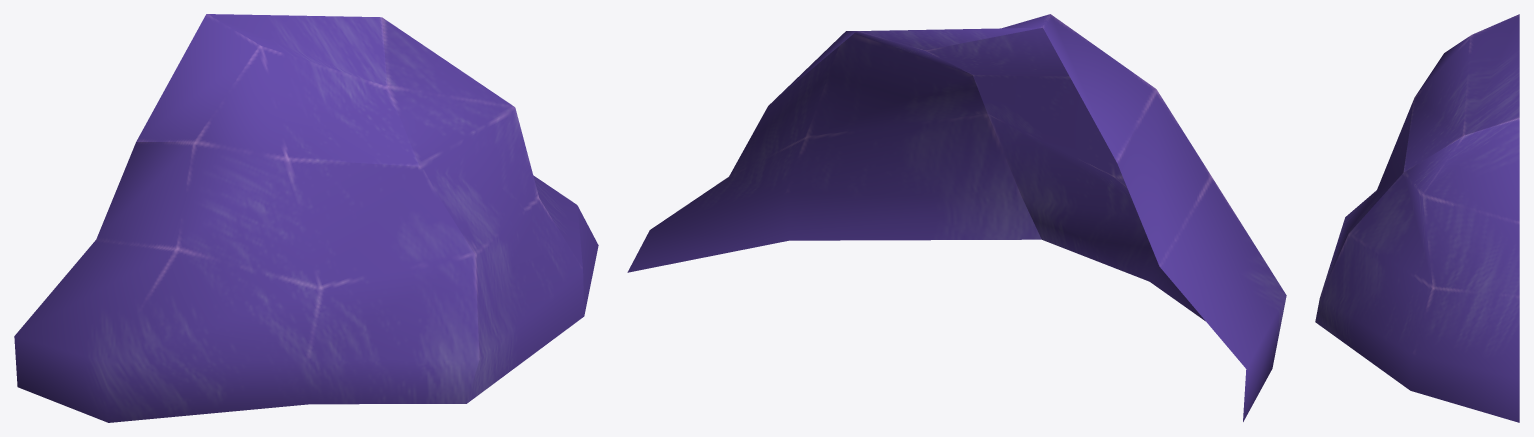
Rendered from Roca_03.fbx.
3 views of the same model, side by side, from view 1: azimuth 30°, elevation 25°; view 2: azimuth 150°, elevation 25°; view 3: azimuth 270°, elevation 25° (orthographic). The views are drawn at different scales.
Visible parts, largest first — view 1: polySurface1; view 2: polySurface1; view 3: polySurface1.
Boxes of the visible parts, box(x1,y1,x2,y2) form: polySurface1: box(14, 14, 598, 422); polySurface1: box(627, 14, 1286, 421); polySurface1: box(1315, 14, 1519, 422).
Bounding box in the file's own units: 3.15 × 1.69 × 1.21.
